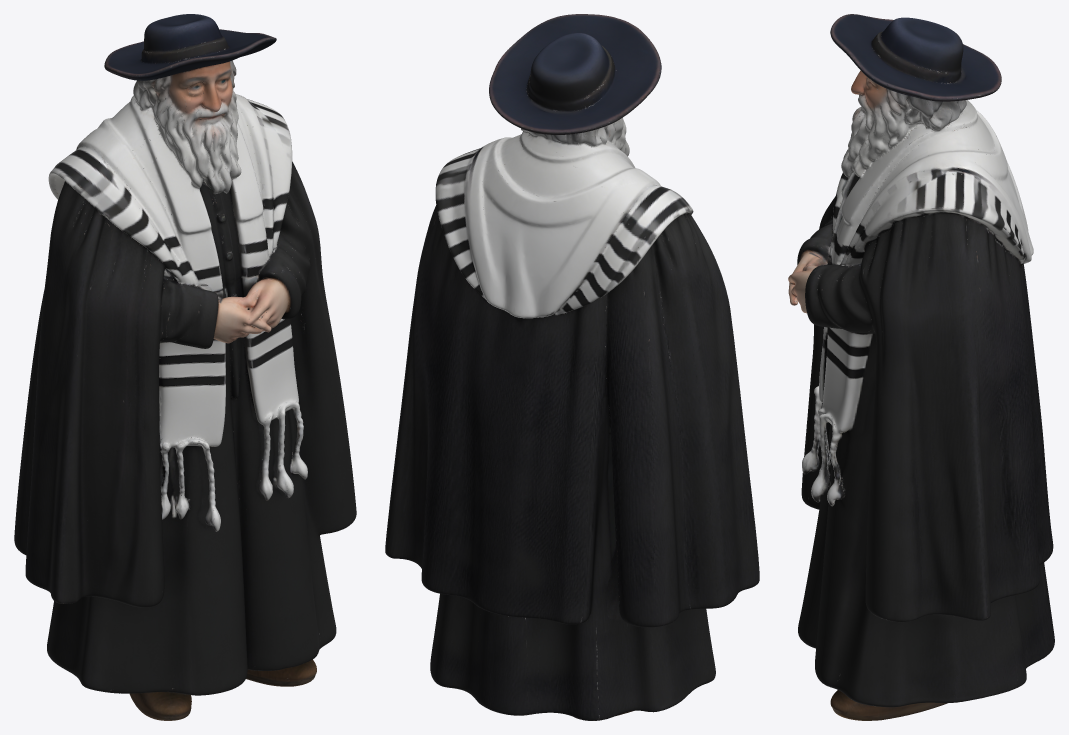
The model's file is Meshy_AI_Maharal_0209035059_texture.glb.
3 views of the same model, side by side, from view 1: azimuth 30°, elevation 25°; view 2: azimuth 150°, elevation 25°; view 3: azimuth 270°, elevation 25° (orthographic).
Bounding box in the file's own units: 1.01 × 2 × 0.7363.
Materials: 1 (1 with a texture image).
